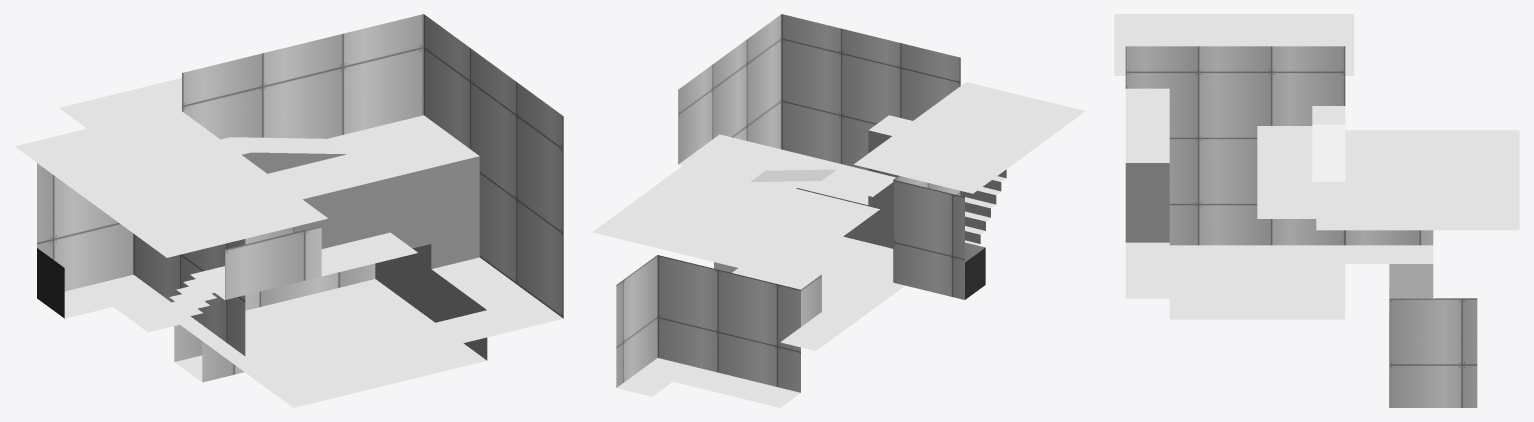
File: Area2.gltf
The picture shows the model from 3 angles, left to right: view 1: azimuth 30°, elevation 25°; view 2: azimuth 150°, elevation 25°; view 3: azimuth 270°, elevation 25°; orthographic projection. The views are drawn at different scales.
Parts seen in each view (by area): view 1: Area2, Area2.001; view 2: Area2, Area2.001; view 3: Area2, Area2.001.
Boxes of the visible parts, left/top/right/bottom form: Area2: left=59, top=14, right=563, bottom=407; Area2.001: left=15, top=107, right=327, bottom=355; Area2: left=592, top=14, right=960, bottom=407; Area2.001: left=854, top=82, right=1085, bottom=299; Area2: left=1125, top=46, right=1519, bottom=407; Area2.001: left=1114, top=14, right=1354, bottom=125.
Bounding box in the file's own units: 33.86 × 27 × 36.88.
Materials: 4 (1 with a texture image).
